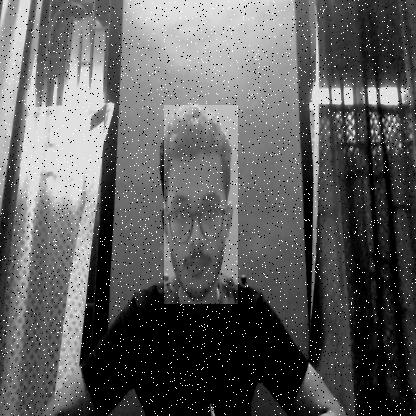Normal: (164, 105, 238, 304)
